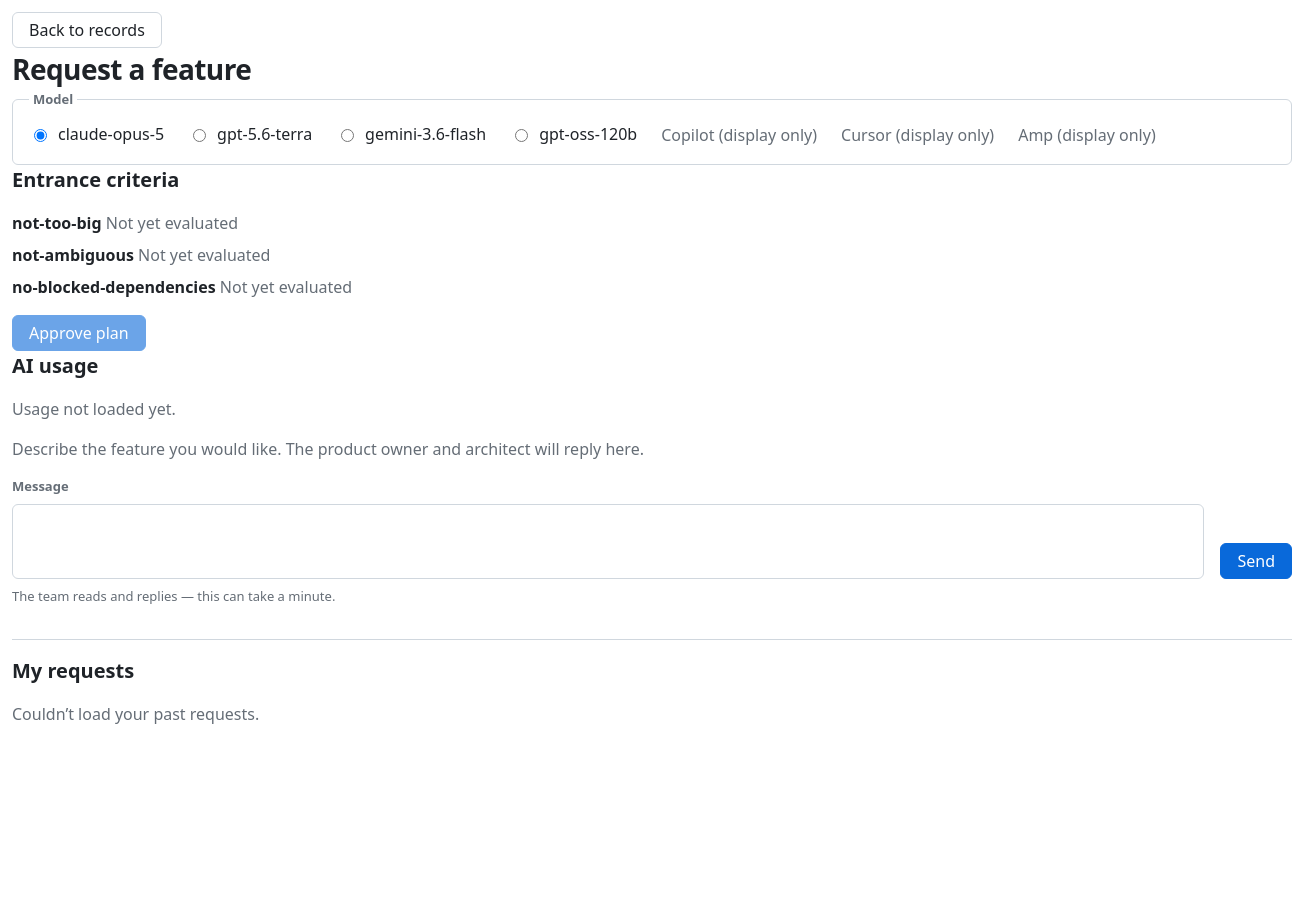
Test case: DAN-81 pre-approval › shows neither the Linear link nor the cost stat, and never fetches the cost
In the text box labelled "Message": point(608, 542) [12,504,1204,579], type "Please add CSV export"
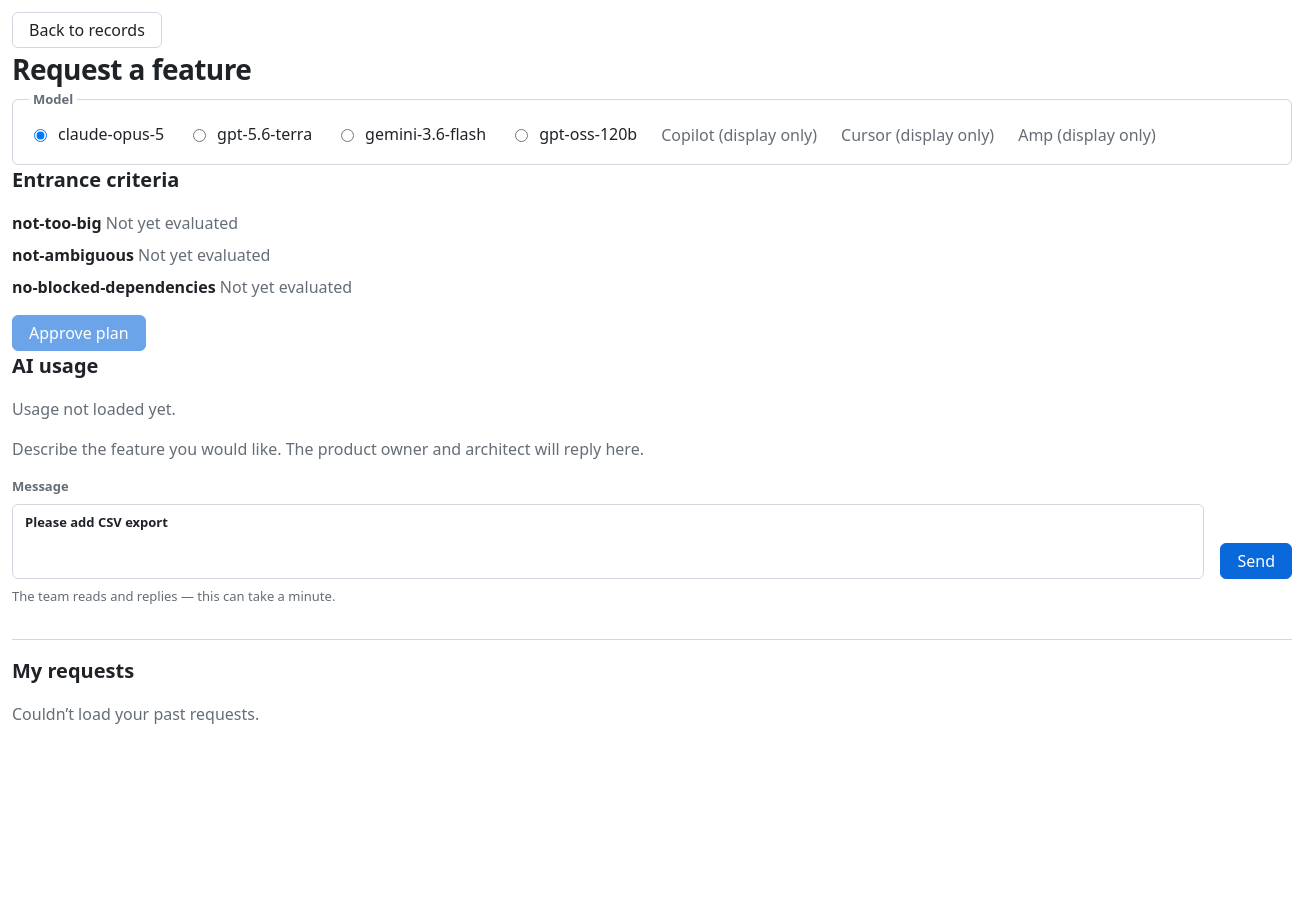
Click the button "Send": point(1256, 561) [1220,543,1292,579]
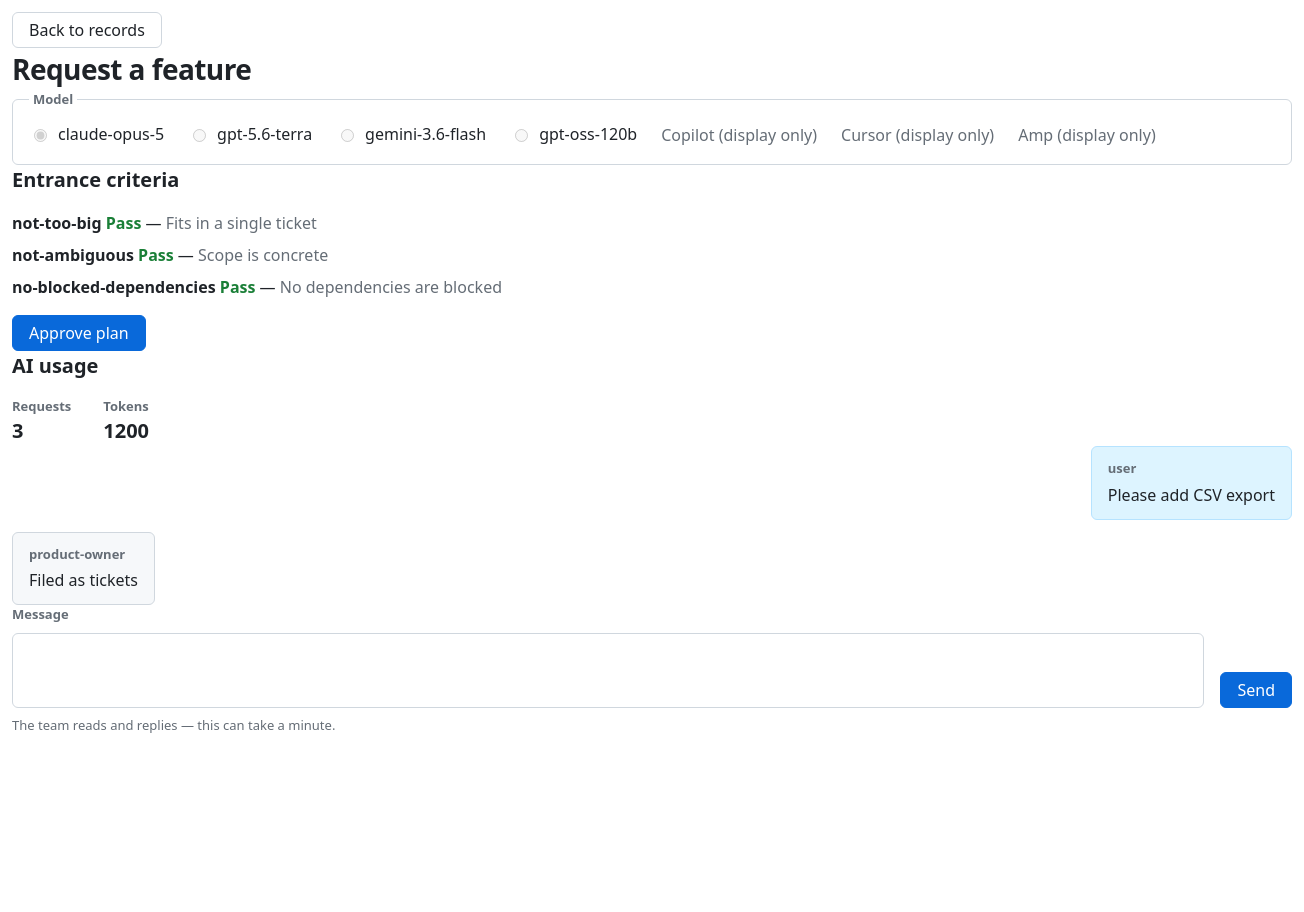
Expected: the list named "Conversation" is shown, [12,446,1292,605]
